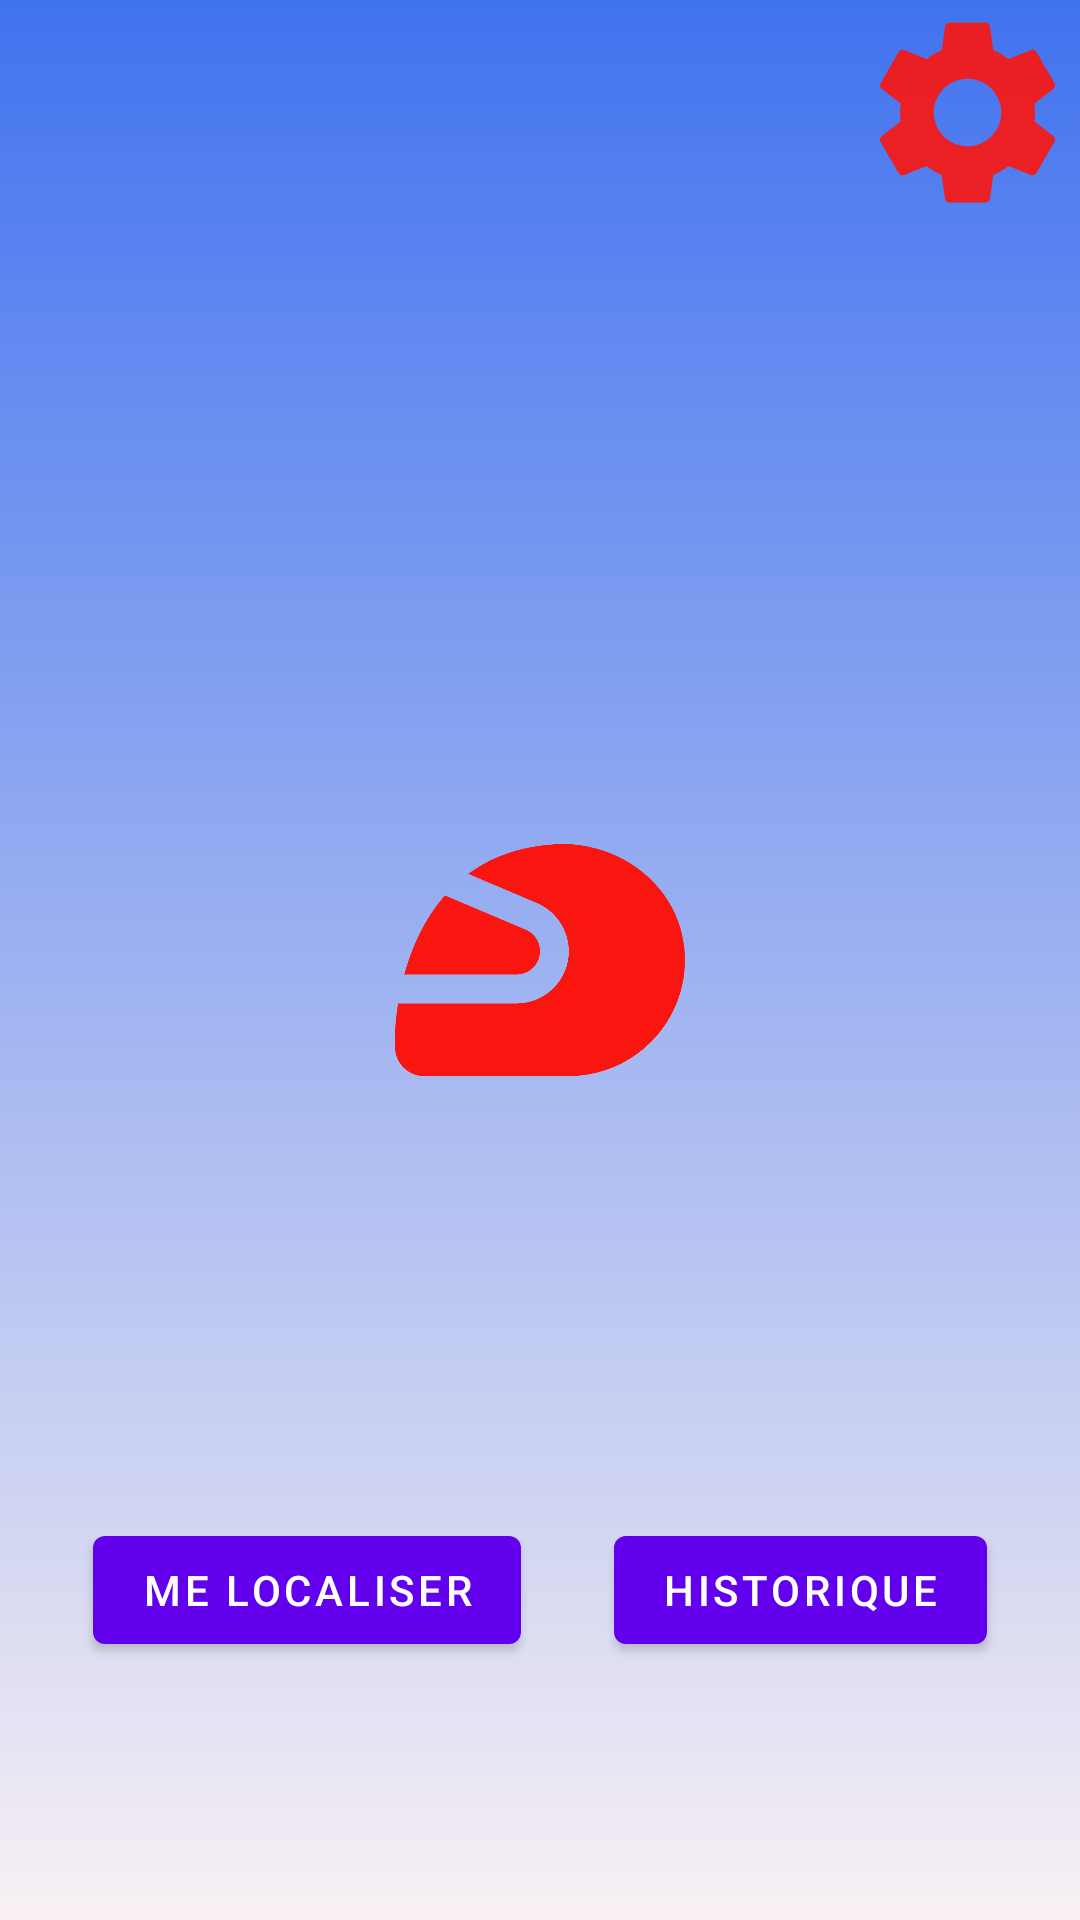

Screen size 1080 x 1920. Icon name, then its center in pixels as (x=x, y=y):
paramètres de l'application: (x=967, y=112)
